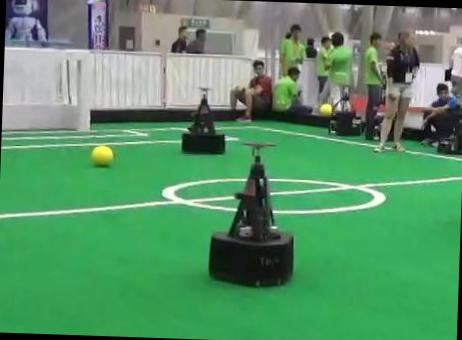ball: (90, 144, 113, 166), (318, 102, 331, 115)
goal: (75, 51, 93, 130)
person: (373, 31, 419, 151)
robot: (209, 141, 293, 285), (181, 87, 224, 153), (328, 84, 361, 135)
